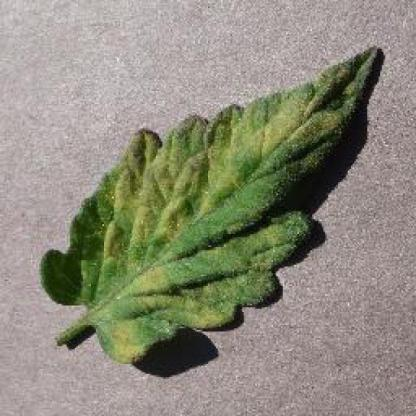Tomato_Leaf_Mold: (40, 49, 381, 360)
